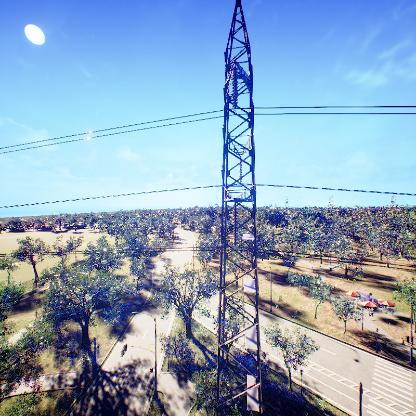tower: (213, 0, 271, 416)
